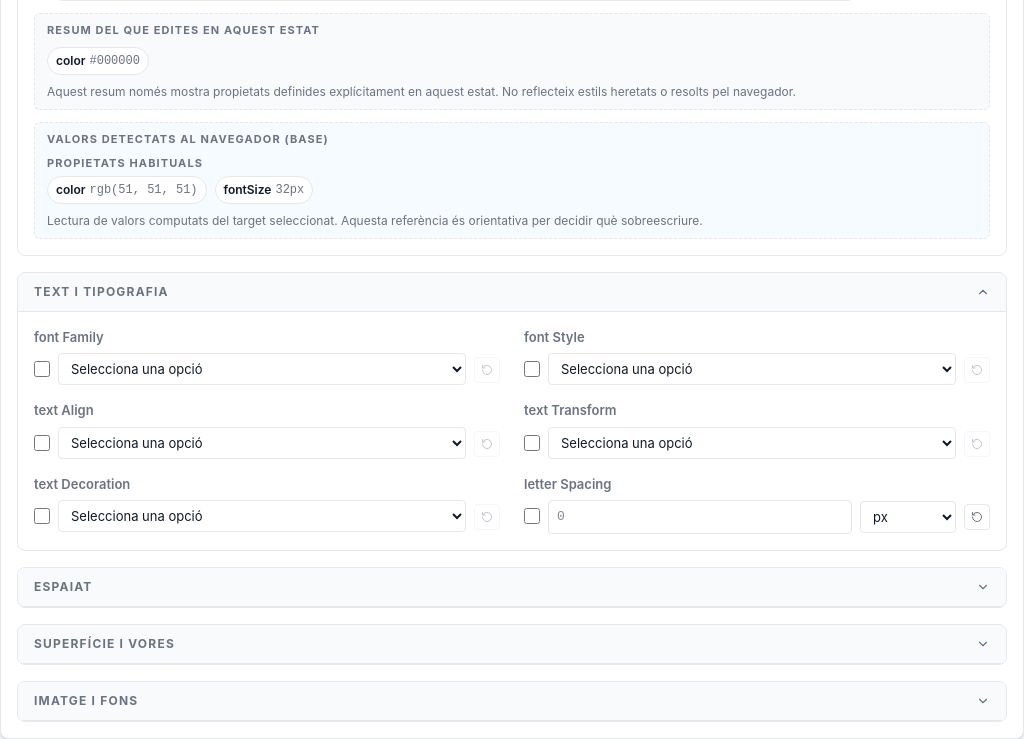
Scenario: StylePanel state selector › shows computed browser values when provided by preview
The width and height of the screenshot is (1024, 739).
(page scrolled)
Expected: the text "Valors detectats al navegador (base)" is shown, [47,132,329,146]
Expected: the text "rgb(51, 51, 51)" is shown, [90,180,198,198]
Click the button "Espaiat". click: point(63, 586)
box: [18,568,1006,606]
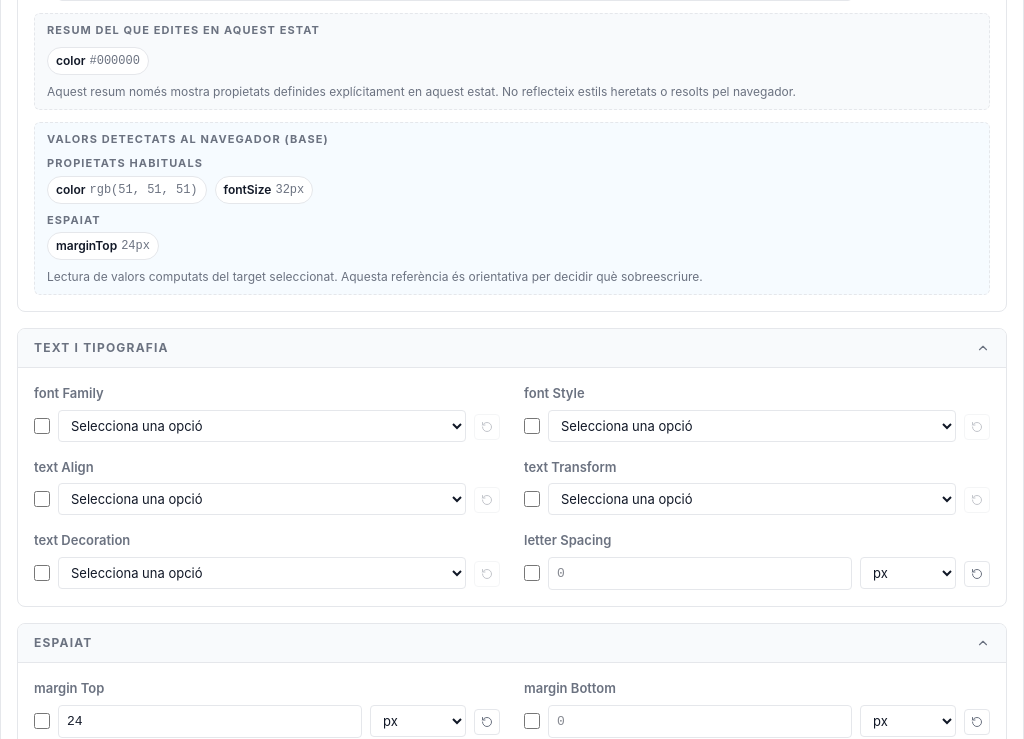
Expected: the text "24px" is shown, [121,237,150,255]
